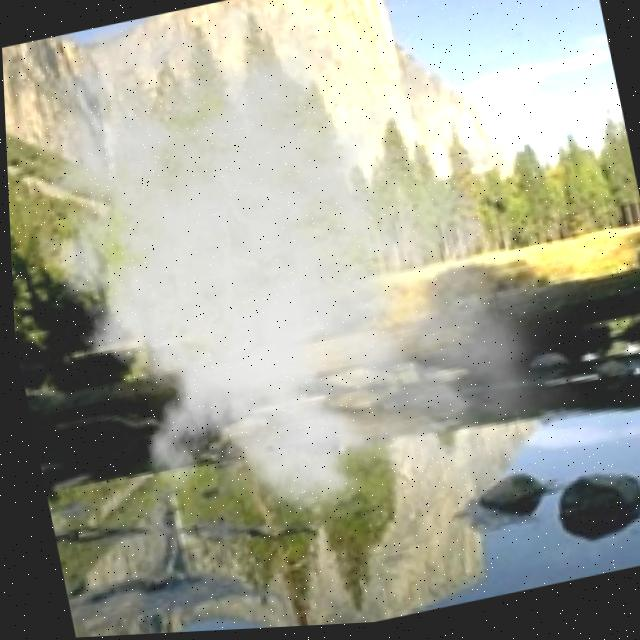Smoke: (84, 116, 391, 415)
